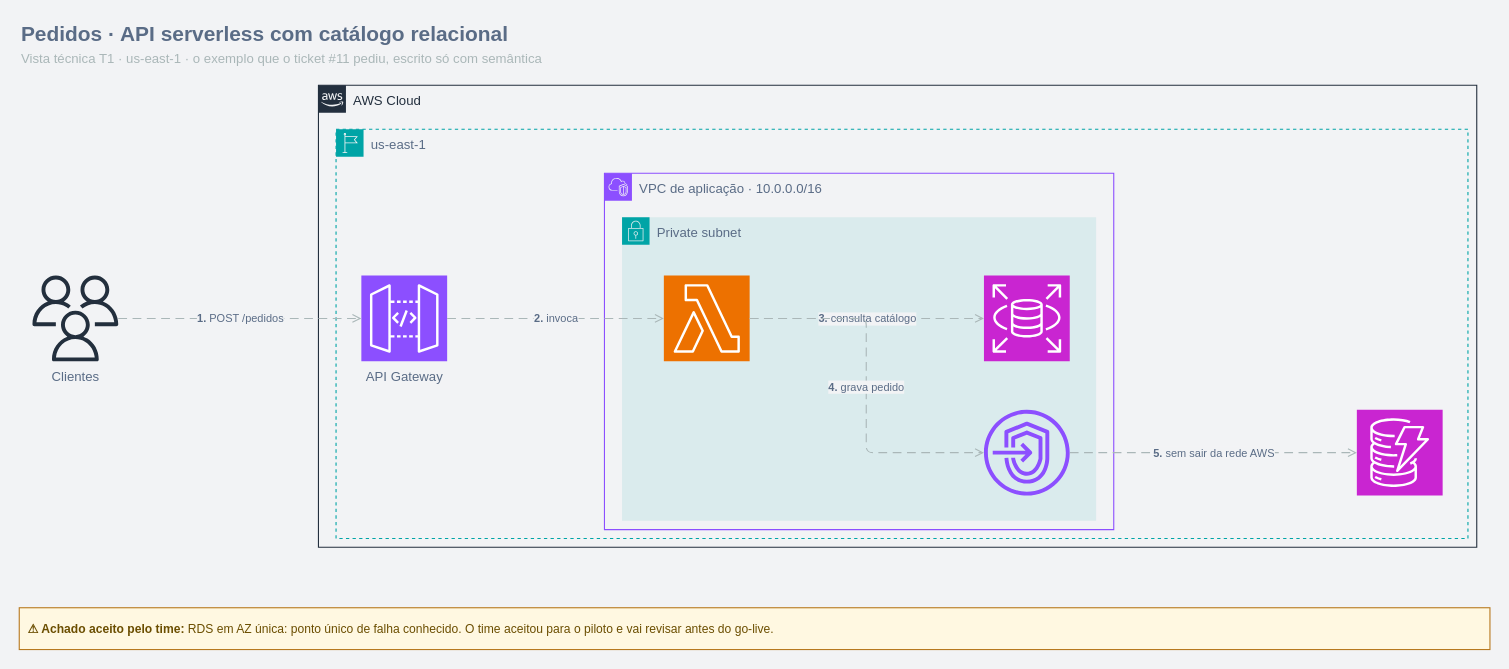
Image size: 1509x669. Some labels were removed from this diagram. Here are the shapes that lost their labels. From the top down, the centre of each, then its label:
At point 706,317: "Processar pedido".
At point 1026,317: "Catálogo".
At point 1026,452: "VPC endpoint".
At point 1399,452: "DynamoDB".
